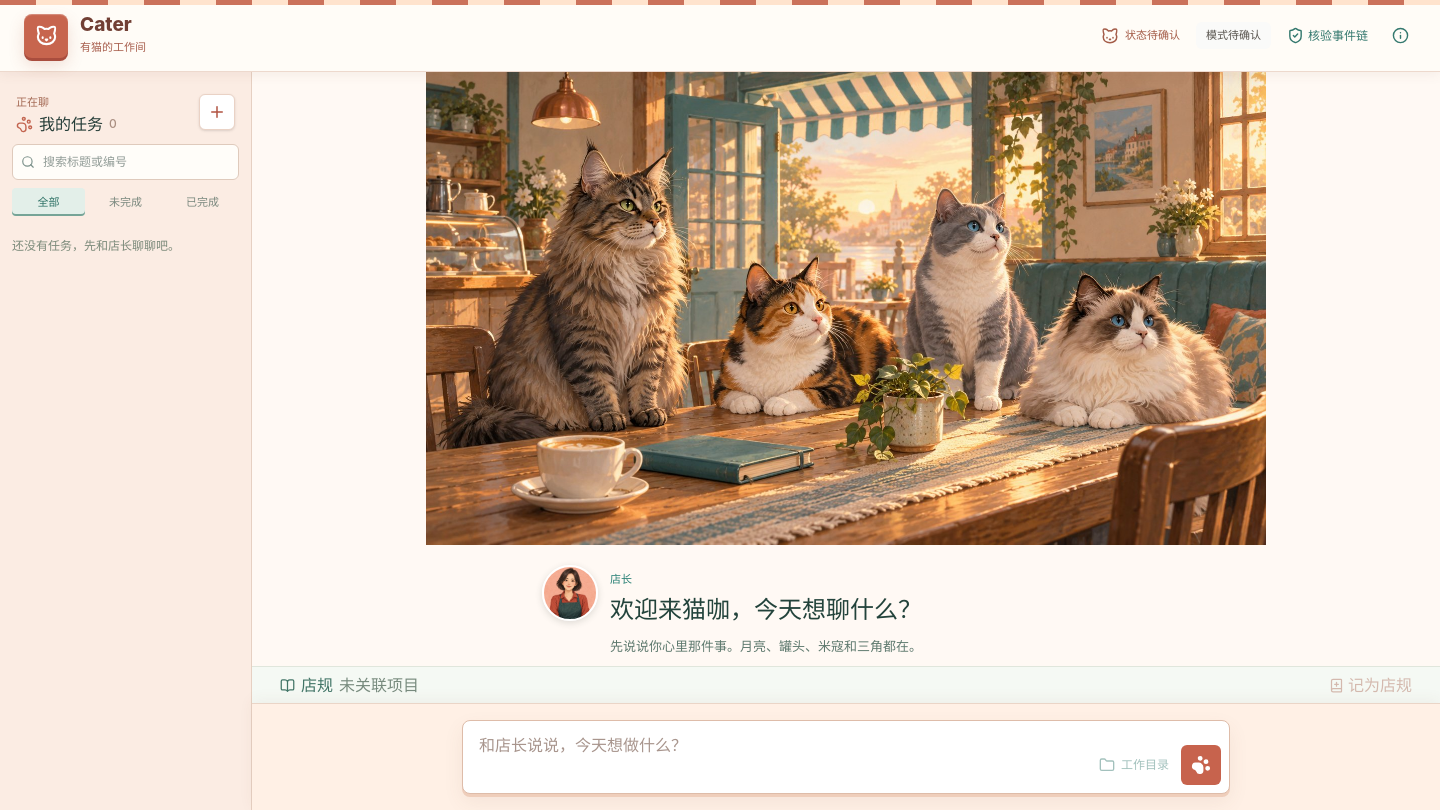
Test: 身份绑定尚在准备时的新输入优先，初始化结束后只记录新建页位置
Step 1. Type "不应被旧记录覆盖" into the text box named "发起任务对话" → (777, 757), box [471,729,1083,785]
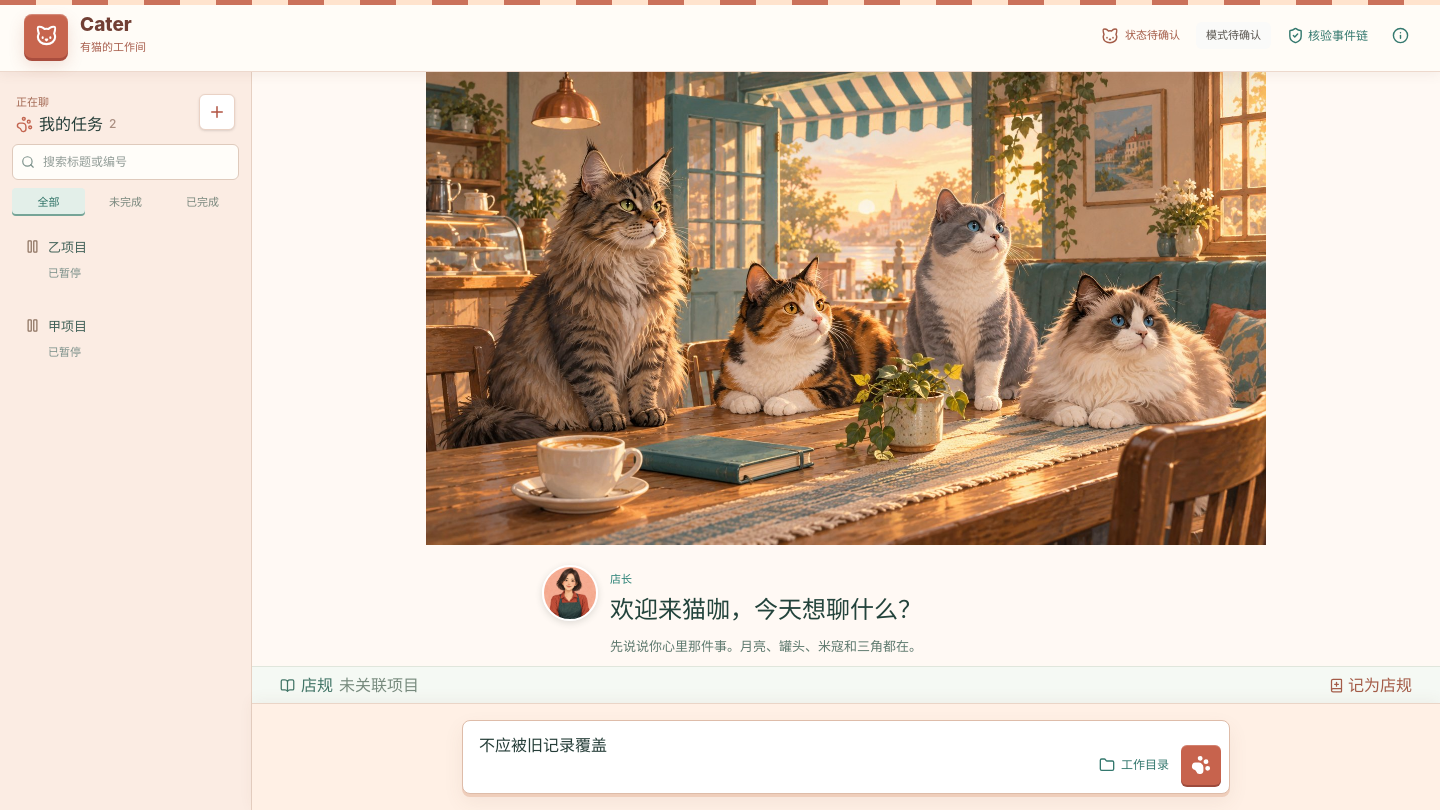
Result: the button "甲项目 已暂停" is shown at [12,302,239,373]
